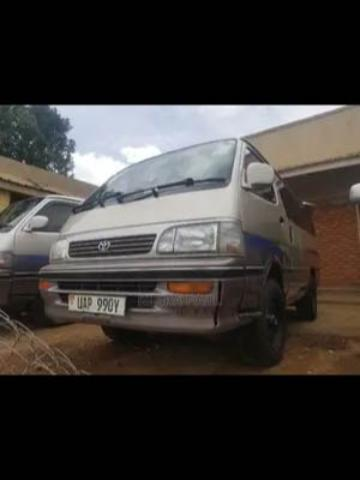van: (39, 137, 318, 363)
